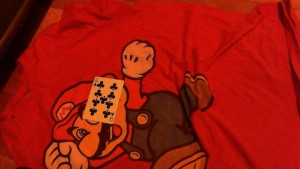NineOfClubs: (81, 77, 127, 123)
